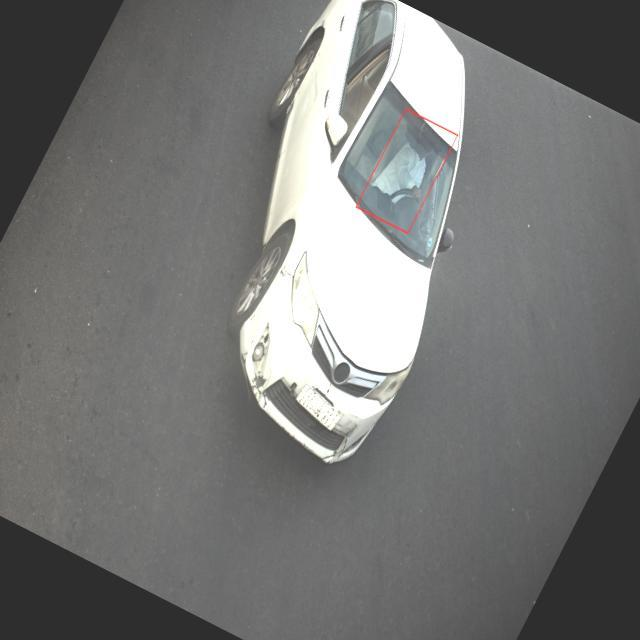windshield: (329, 77, 482, 272)
